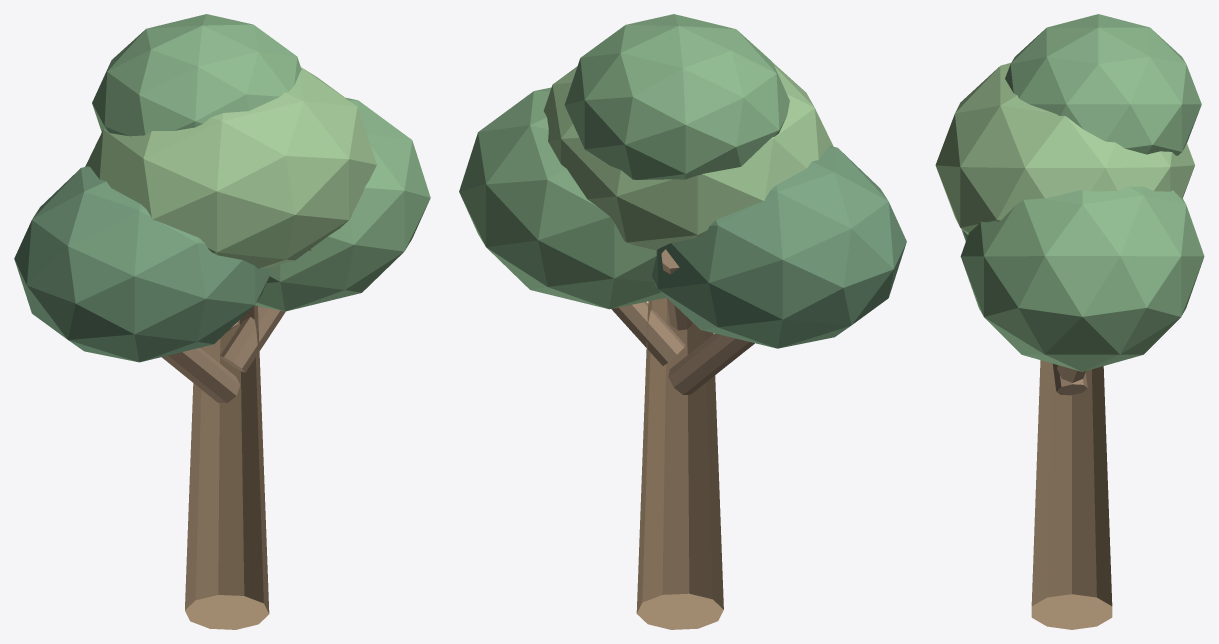
The model's file is tree-oak-a.glb.
3 views of the same model, side by side, from view 1: azimuth 30°, elevation 25°; view 2: azimuth 150°, elevation 25°; view 3: azimuth 270°, elevation 25° (orthographic). The views are drawn at different scales.
Visible parts, largest first — view 1: Canopy_3, Canopy_1, Trunk, Canopy_4, Canopy_2, Branch_1, Branch_2; view 2: Canopy_1, Canopy_4, Canopy_2, Trunk, Canopy_3, Branch_1, Branch_2, Branch_3; view 3: Canopy_2, Canopy_3, Canopy_4, Trunk, Branch_1.
Boxes of the visible parts, <box> form: Canopy_3: <box>85,67,376,268</box>; Canopy_1: <box>14,166,269,362</box>; Trunk: <box>185,305,269,629</box>; Canopy_4: <box>92,14,301,136</box>; Canopy_2: <box>255,98,430,311</box>; Branch_1: <box>161,348,240,403</box>; Branch_2: <box>220,306,285,372</box>; Canopy_1: <box>651,146,906,348</box>; Canopy_4: <box>564,14,789,179</box>; Canopy_2: <box>459,87,666,309</box>; Trunk: <box>636,297,723,629</box>; Canopy_3: <box>543,62,833,250</box>; Branch_1: <box>668,333,754,394</box>; Branch_2: <box>611,302,685,365</box>; Branch_3: <box>661,249,692,330</box>; Canopy_2: <box>960,186,1204,371</box>; Canopy_3: <box>935,63,1194,234</box>; Canopy_4: <box>1005,14,1201,155</box>; Trunk: <box>1031,360,1112,629</box>; Branch_1: <box>1053,363,1087,395</box>.
Bounding box in the file's own units: 3.47 × 4.82 × 2.03.
